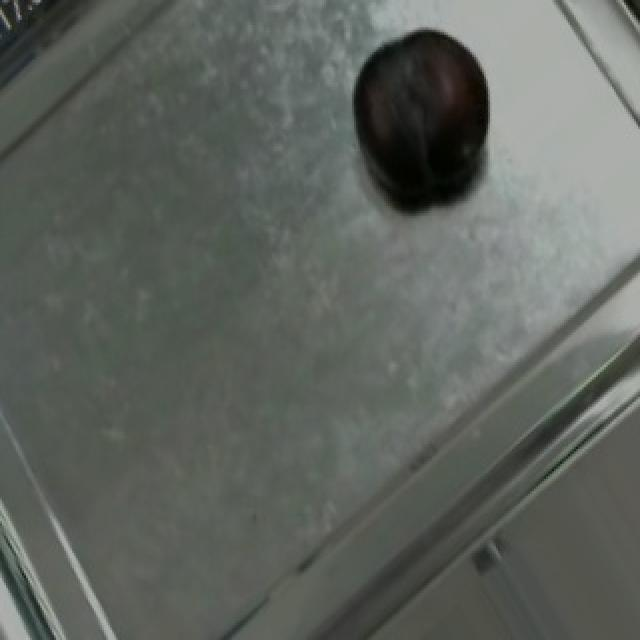Fruit: (330, 10, 518, 221)
